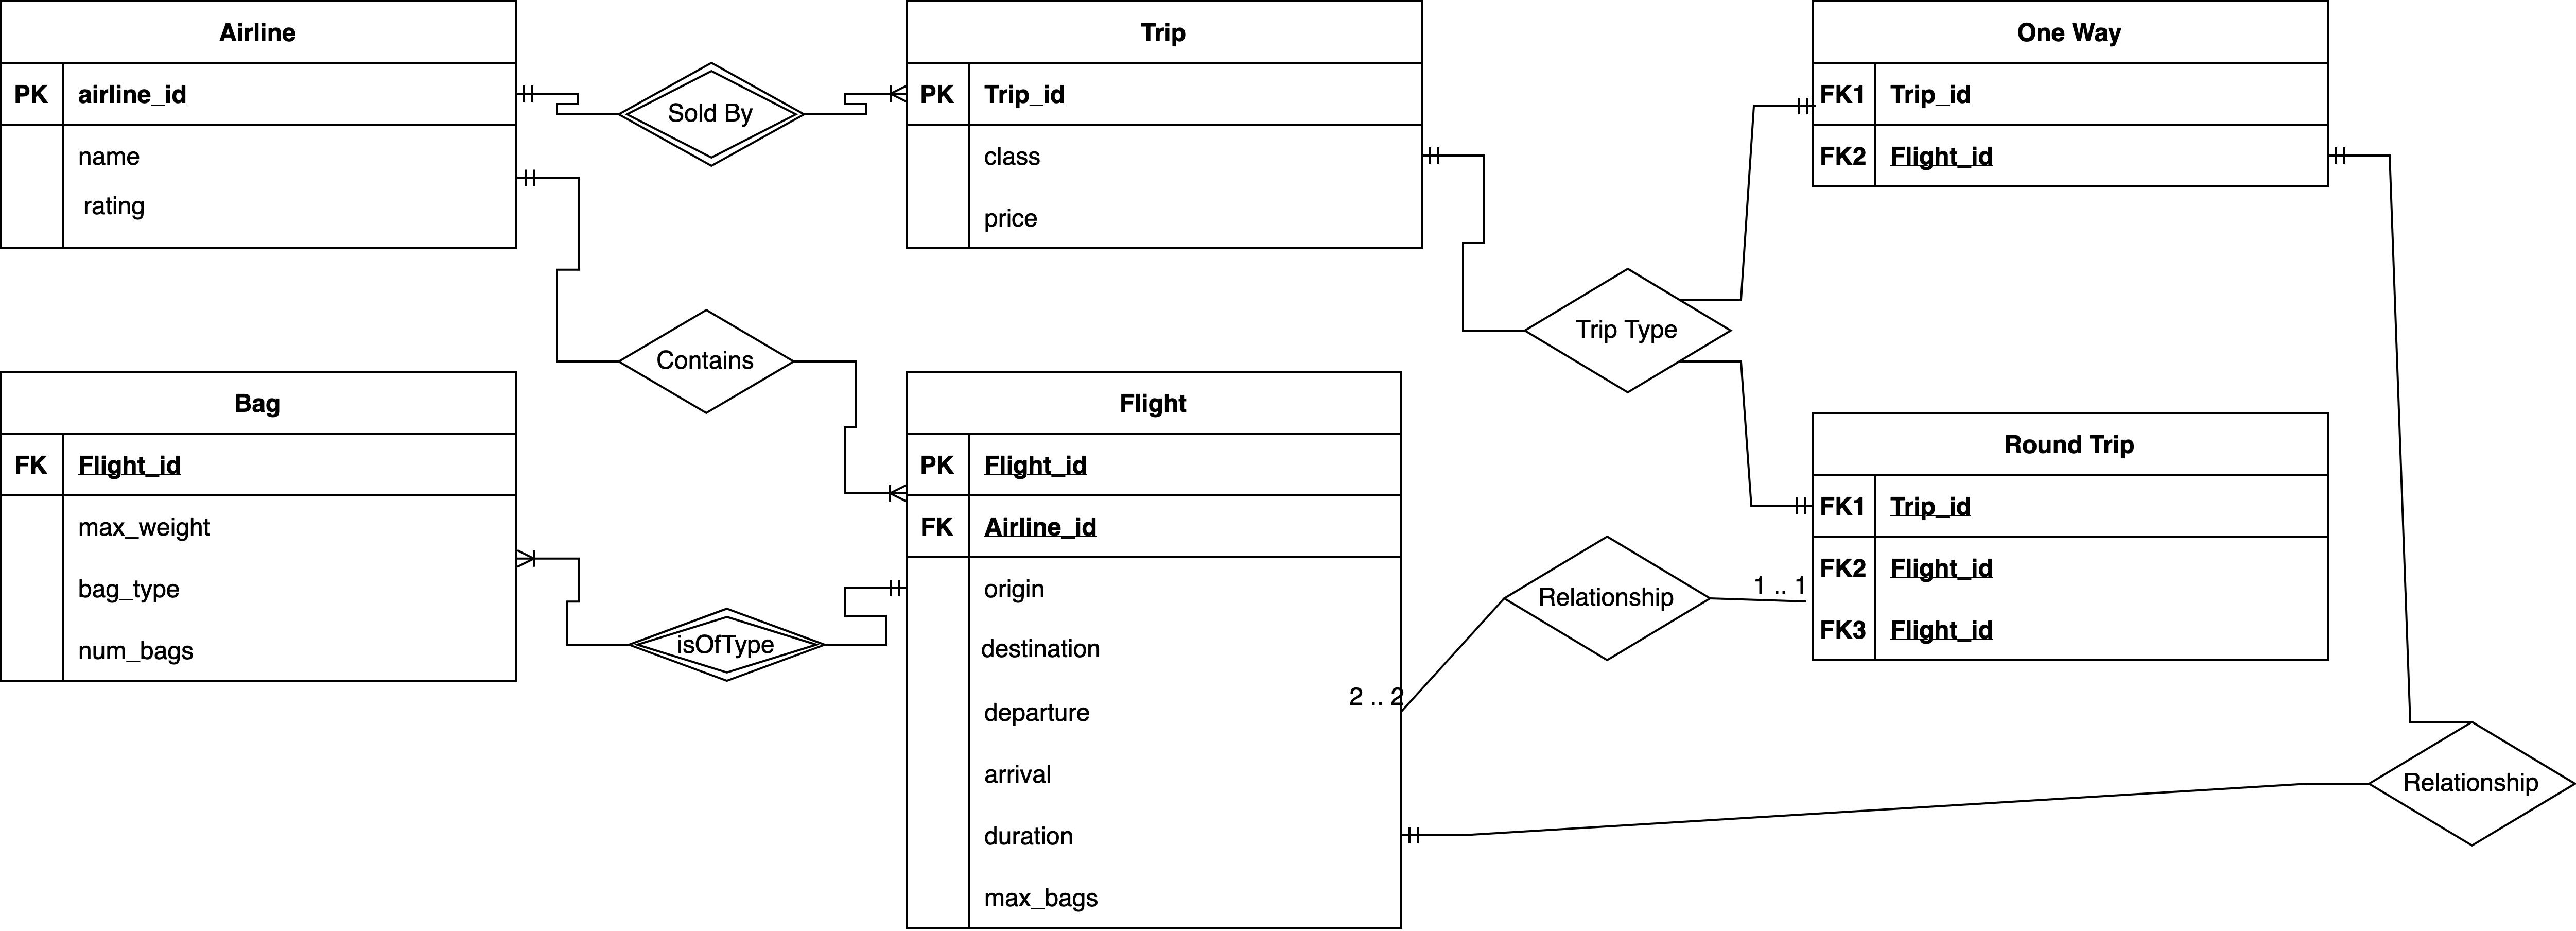entity: (904, 366, 1403, 931), (0, 373, 519, 690), (1810, 410, 2334, 665), (0, 0, 522, 253), (900, 0, 1426, 251), (1809, 0, 2325, 189)
relationship: (1502, 535, 1709, 660), (1526, 271, 1732, 396), (2372, 722, 2573, 844), (623, 310, 787, 415)
weakrelationship: (616, 64, 807, 169), (631, 609, 820, 686)
